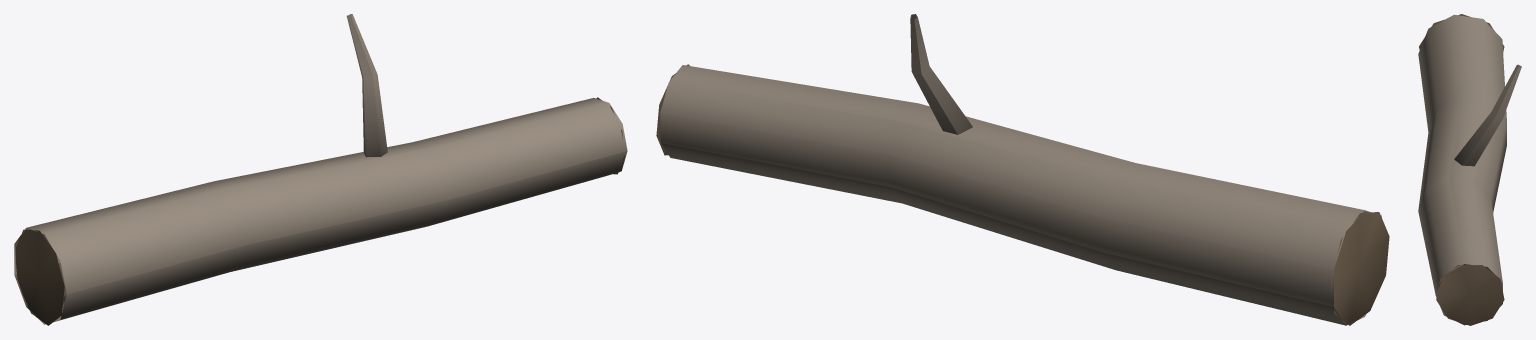
File: fallen_log.glb
3 views of the same model, side by side, from view 1: azimuth 30°, elevation 25°; view 2: azimuth 150°, elevation 25°; view 3: azimuth 270°, elevation 25° (orthographic). The views are drawn at different scales.
Parts seen in each view (by area): view 1: fallen_log; view 2: fallen_log; view 3: fallen_log.
Boxes of the visible parts, <box> form: fallen_log: <box>14,14,627,325</box>; fallen_log: <box>656,14,1389,325</box>; fallen_log: <box>1418,14,1521,325</box>.
Bounding box in the file's own units: 3.93 × 1.3 × 0.7151.
